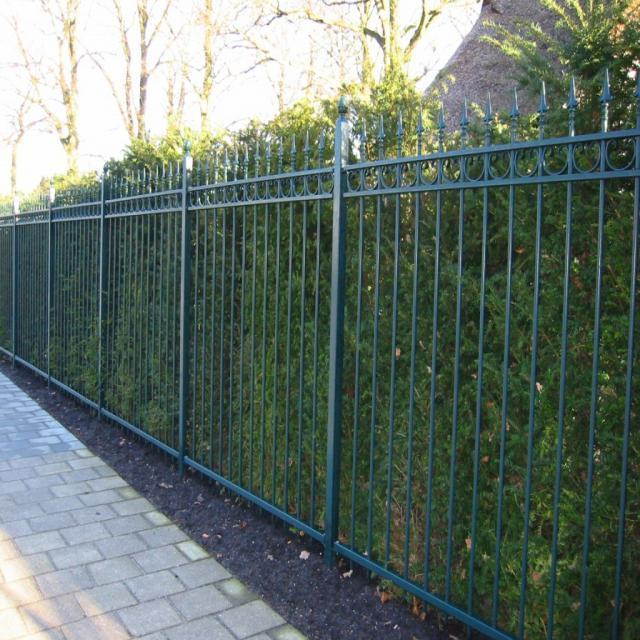fence line: (198, 80, 640, 640), (5, 174, 364, 574)
